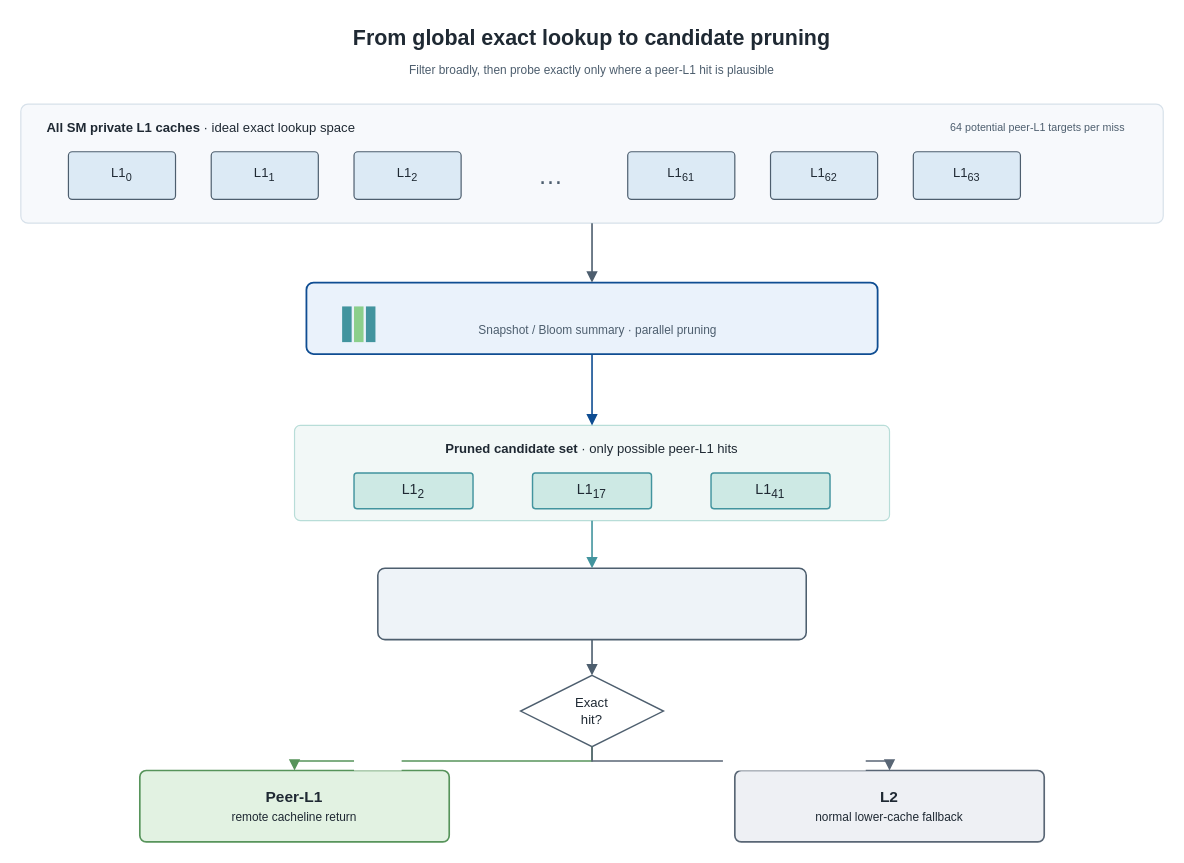
Image size: 1184x863. Some labels were removed from this diagram. Here are the shapes that lost their labels. From the top down, the box of each, then its label:
(305, 281, 878, 354): Lightweight candidate screening
(377, 567, 806, 640): Exact peer-L1 query Tag/data lookup confirms or rejects each candidate
(353, 746, 401, 770): hit
(722, 746, 865, 770): no hit → fallback
